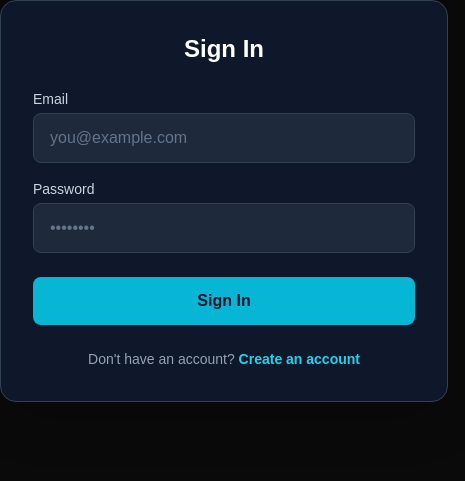
it: AuthForm › displays an error message when auth fails
Step 1. Type "test@example.com" into the field labelled "Email" → [224, 138], box [33,113,415,163]
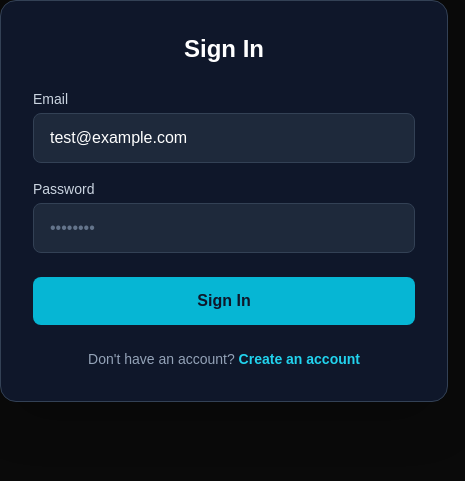
Step 2. Type "wrong" into the password field labelled "Password" → [224, 228], box [33,203,415,253]
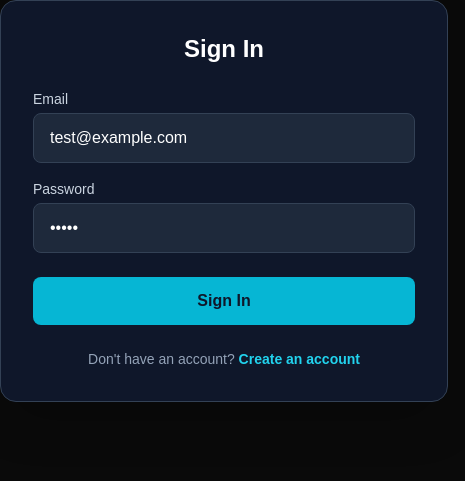
Step 3. Click the button "Sign In" → [224, 301], box [33,277,415,325]
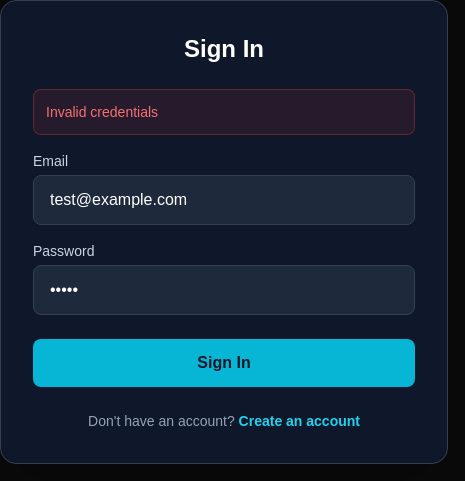
Expected: the text "Invalid credentials" is shown, [33,89,415,135]
